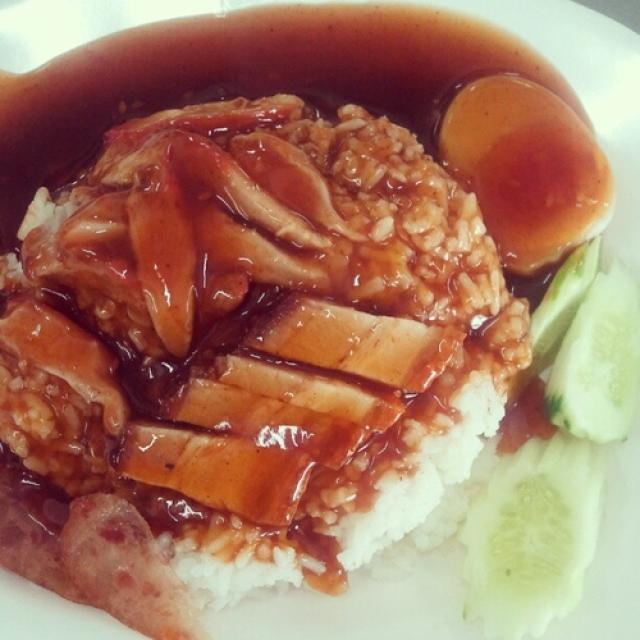猪肉菜式: (9, 8, 609, 610)
